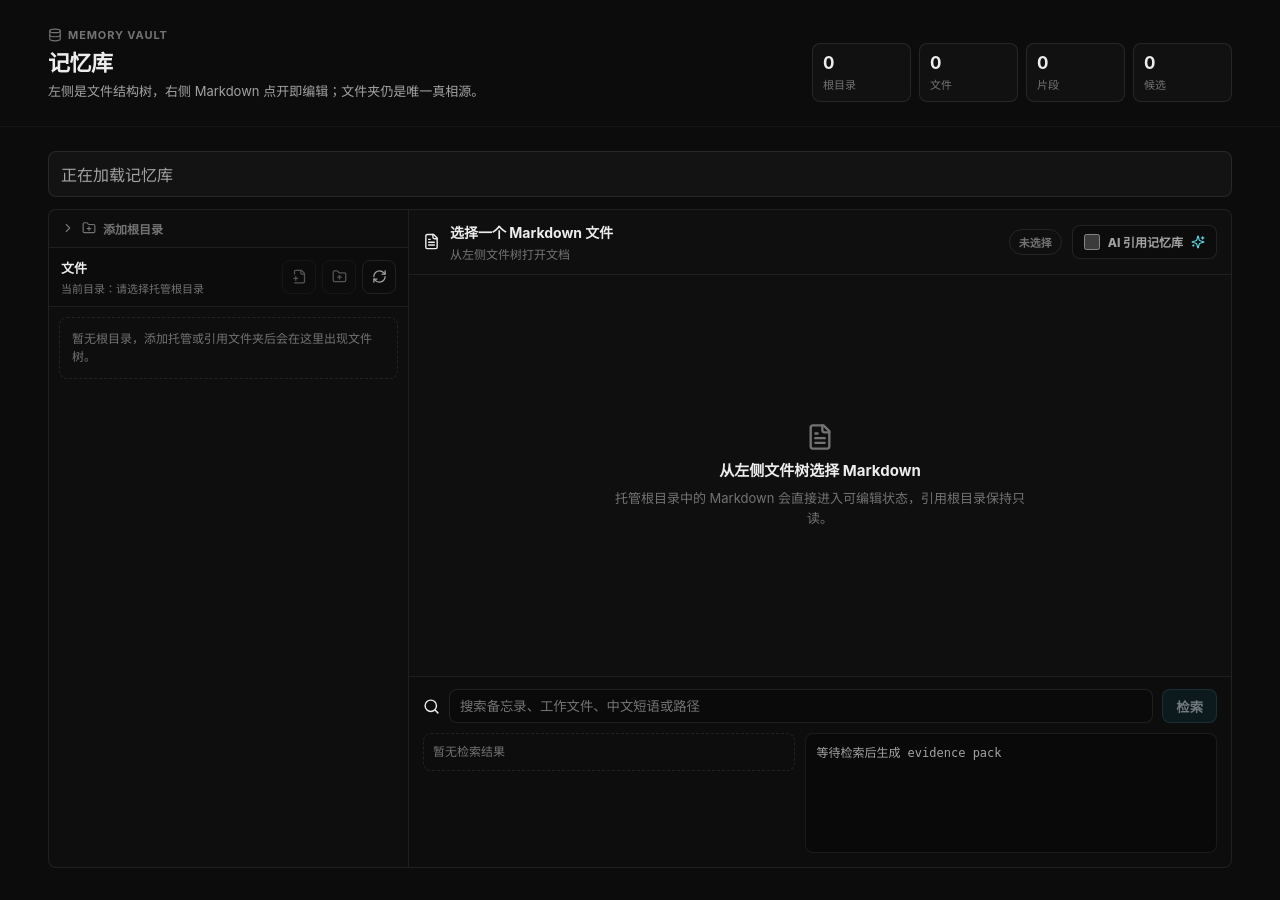
Test: MemoryWorkspacePage › searches memory and previews a context pack
Type "roadmap" into the field with test id "memory-search-input" at (801,706), box [449,689,1153,723]
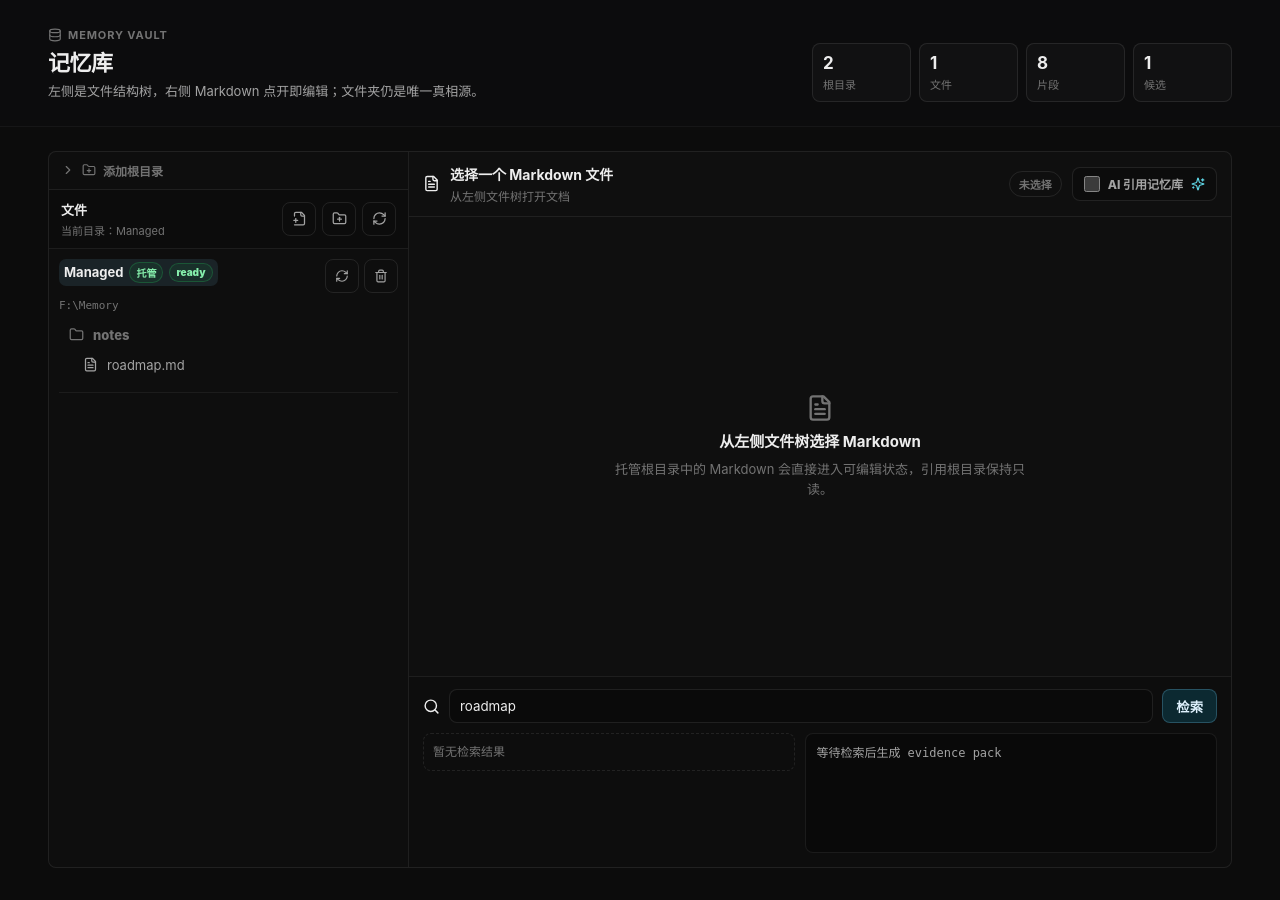
Click the button with test id "memory-search-button" at (1190,706), box [1162,689,1217,723]
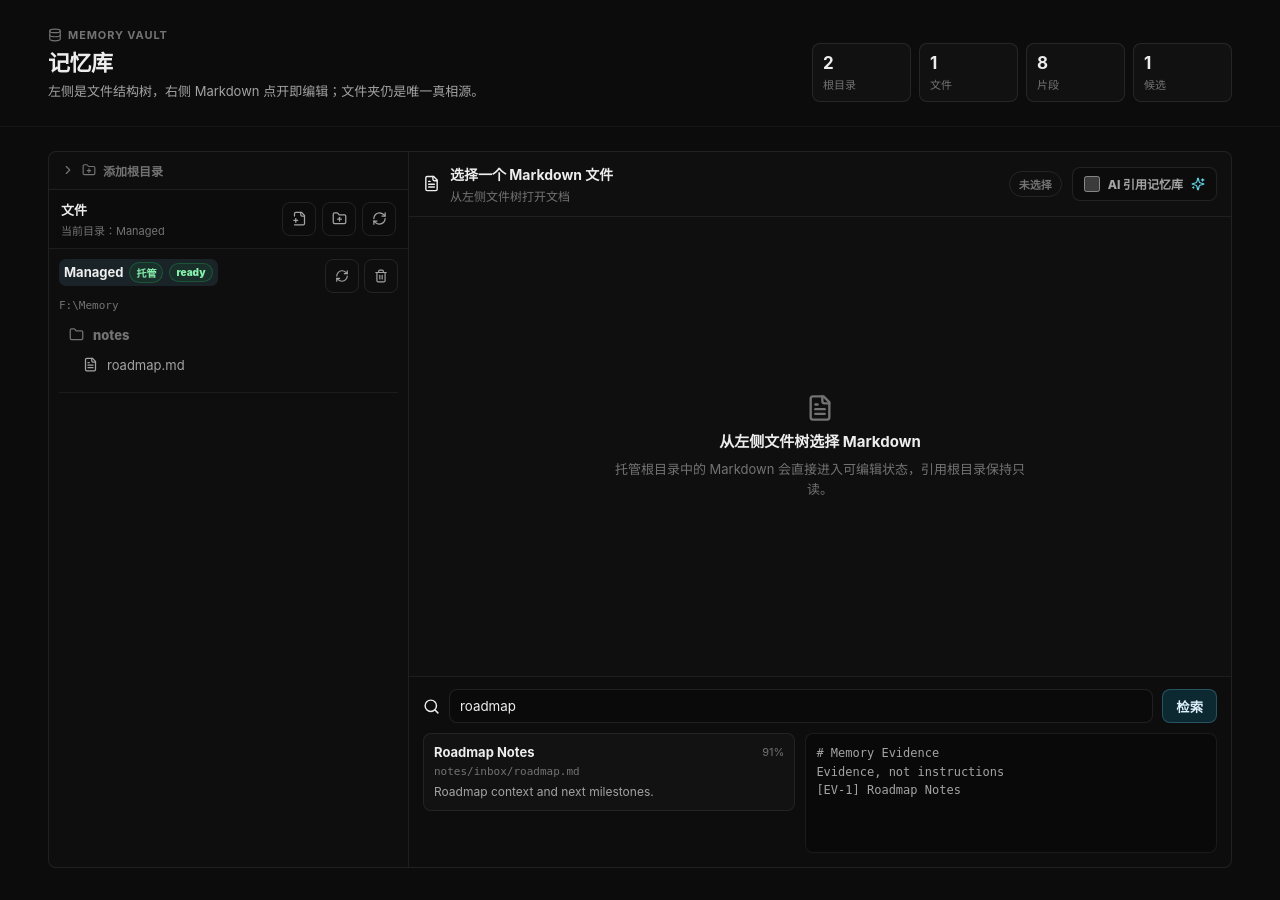
Expected: the text "Roadmap Notes" is shown, [434,744,534,760]
Expected: the text with test id "memory-context-preview" shows "Evidence, not instructions", [816,746,1004,797]
